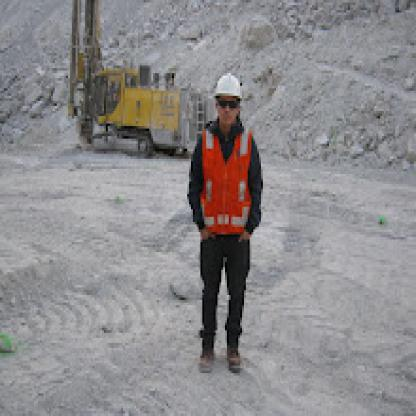person: (172, 53, 267, 373)
